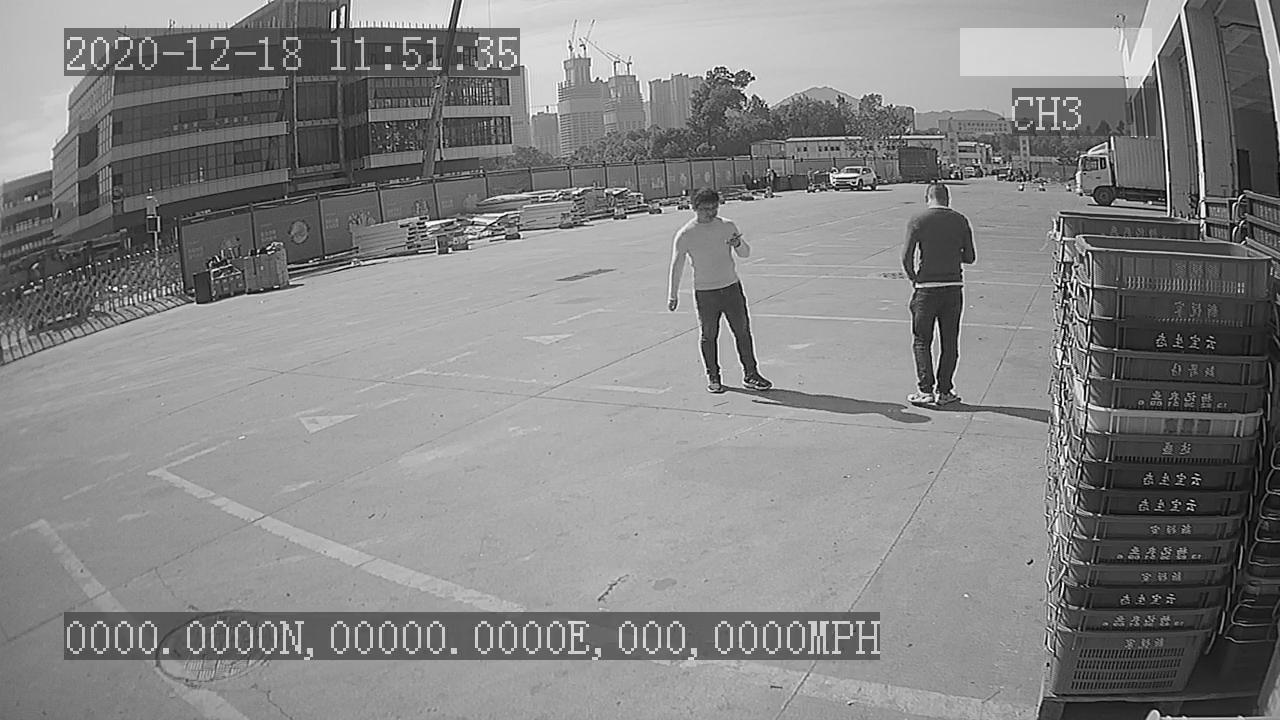person: (659, 185, 779, 401), (893, 177, 981, 411)
